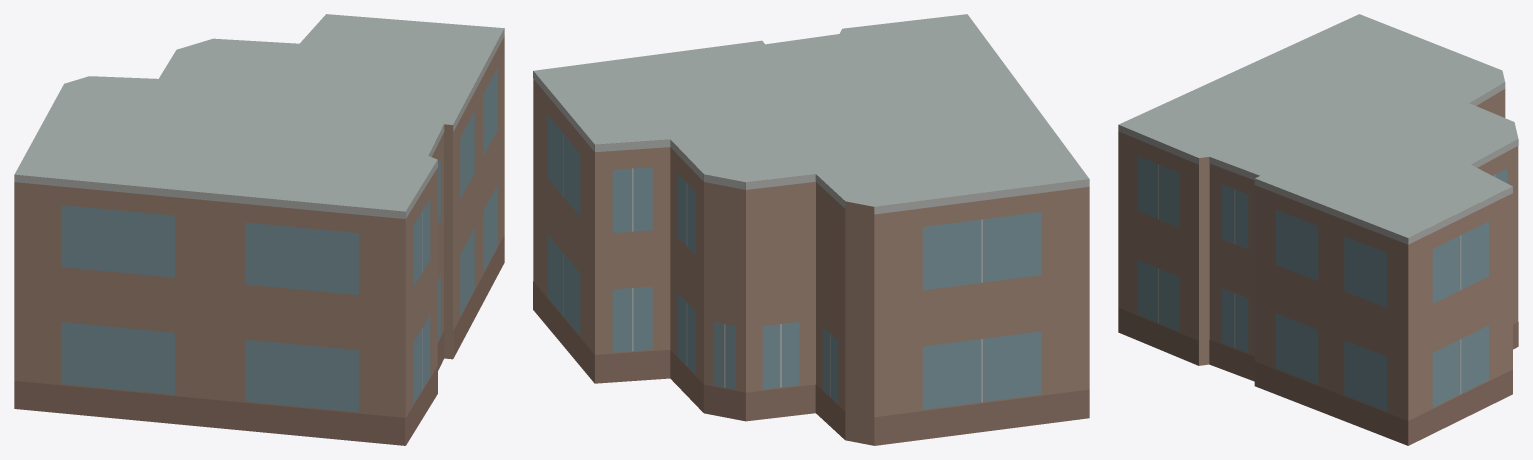
The model's file is survey-upis-32625307.glb.
3 views of the same model, side by side, from view 1: azimuth 30°, elevation 25°; view 2: azimuth 150°, elevation 25°; view 3: azimuth 270°, elevation 25° (orthographic). The views are drawn at different scales.
Visible parts, largest first — view 1: survey-upis-32625307.tmp; view 2: survey-upis-32625307.tmp; view 3: survey-upis-32625307.tmp.
Boxes of the visible parts, x1,y1,x2,y2 form: survey-upis-32625307.tmp: [14, 14, 504, 445]; survey-upis-32625307.tmp: [533, 14, 1089, 445]; survey-upis-32625307.tmp: [1118, 14, 1518, 445].
Bounding box in the file's own units: 17.59 × 7.6 × 13.27.
